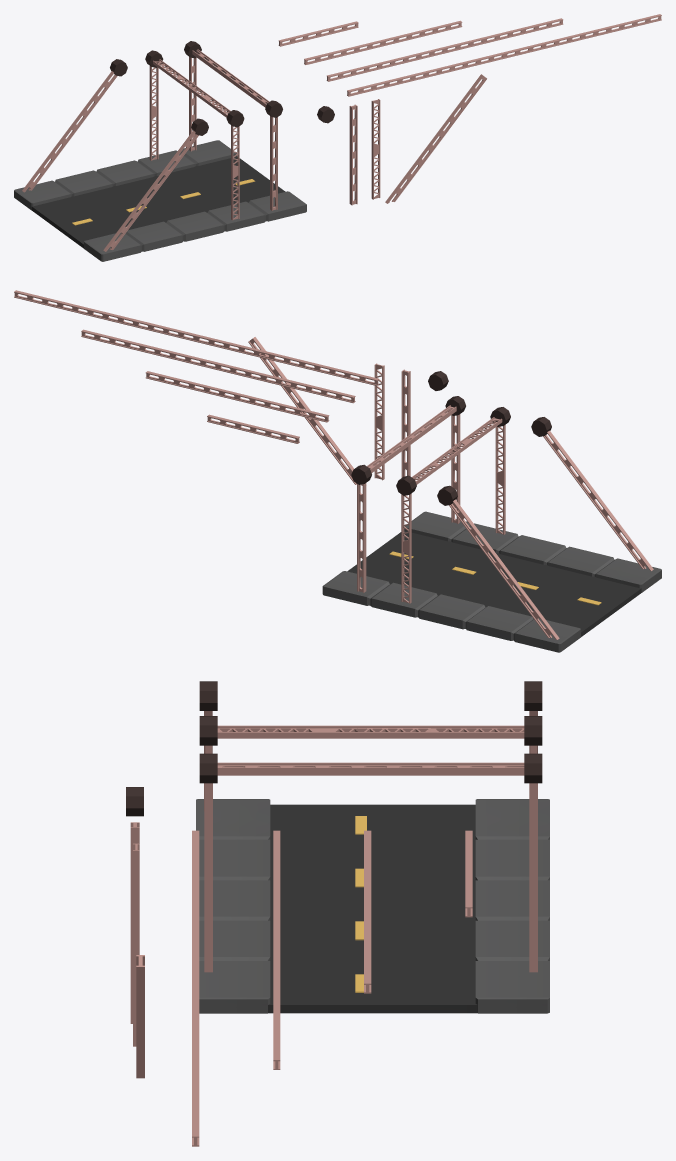
The model's file is Bridge_parts - Copy.fbx.
3 views of the same model, one above another, from view 1: azimuth 30°, elevation 25°; view 2: azimuth 150°, elevation 25°; view 3: azimuth 270°, elevation 25° (orthographic). The views are drawn at different scales.
Parts seen in each view (by area): view 1: Road, Upper_bridge.037, Under_bridge.007, Upper_bridge.038, Upper_bridge.042, Upper_bridge.041, Upper_bridge.045, Upper_bridge.040, Under_bridge.006, Upper_bridge.043, Upper_bridge.039; view 2: Road, Upper_bridge.037, Under_bridge.007, Upper_bridge.038, Upper_bridge.042, Upper_bridge.041, Upper_bridge.040, Upper_bridge.045, Under_bridge.006, Upper_bridge.043, Upper_bridge.039; view 3: Road, Upper_bridge.038, Under_bridge.007, Upper_bridge.042, Upper_bridge.041, Upper_bridge.040, Upper_bridge.037, Under_bridge.006, Upper_bridge.045, Upper_bridge.043, Upper_bridge.039.
Part boxes in pixels (<box>): Road: <box>14,140,306,261</box>; Upper_bridge.037: <box>22,59,208,251</box>; Under_bridge.007: <box>145,50,244,220</box>; Upper_bridge.038: <box>184,41,282,210</box>; Upper_bridge.042: <box>347,14,661,96</box>; Upper_bridge.041: <box>326,18,563,81</box>; Upper_bridge.045: <box>385,74,486,203</box>; Upper_bridge.040: <box>304,20,462,64</box>; Under_bridge.006: <box>371,99,380,199</box>; Upper_bridge.043: <box>349,104,357,205</box>; Upper_bridge.039: <box>278,21,358,46</box>; Road: <box>322,511,661,652</box>; Upper_bridge.037: <box>437,417,653,639</box>; Under_bridge.007: <box>396,407,510,603</box>; Upper_bridge.038: <box>351,396,465,592</box>; Upper_bridge.042: <box>14,290,378,385</box>; Upper_bridge.041: <box>81,329,355,403</box>; Upper_bridge.040: <box>145,371,329,422</box>; Upper_bridge.045: <box>248,337,362,485</box>; Under_bridge.006: <box>374,363,384,480</box>; Upper_bridge.043: <box>401,369,410,477</box>; Upper_bridge.039: <box>207,414,299,443</box>; Road: <box>196,799,549,1013</box>; Upper_bridge.038: <box>199,753,542,972</box>; Under_bridge.007: <box>199,716,542,753</box>; Upper_bridge.042: <box>192,830,199,1146</box>; Upper_bridge.041: <box>273,830,280,1069</box>; Upper_bridge.040: <box>364,830,371,993</box>; Upper_bridge.037: <box>199,681,542,810</box>; Under_bridge.006: <box>133,843,139,1046</box>; Upper_bridge.045: <box>136,955,144,1078</box>; Upper_bridge.043: <box>130,822,139,1023</box>; Upper_bridge.039: <box>465,830,472,917</box>.
Bounding box in the file's own units: 5174 × 1018 × 1699.
3 materials, 1 textured.
